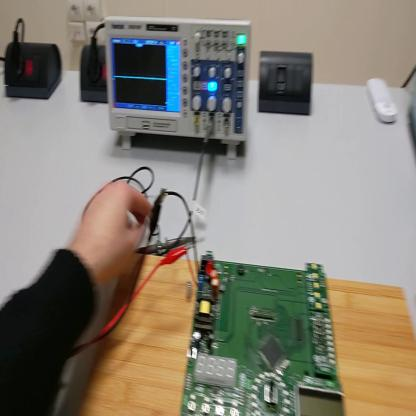hand: (75, 180, 153, 286)
low voltage board: (163, 187, 346, 414)
oscilloscope: (104, 14, 252, 157)
oscilloscope probe tip: (148, 237, 201, 256)
socket: (5, 37, 63, 100), (81, 45, 107, 104)
working area: (72, 250, 415, 415)
